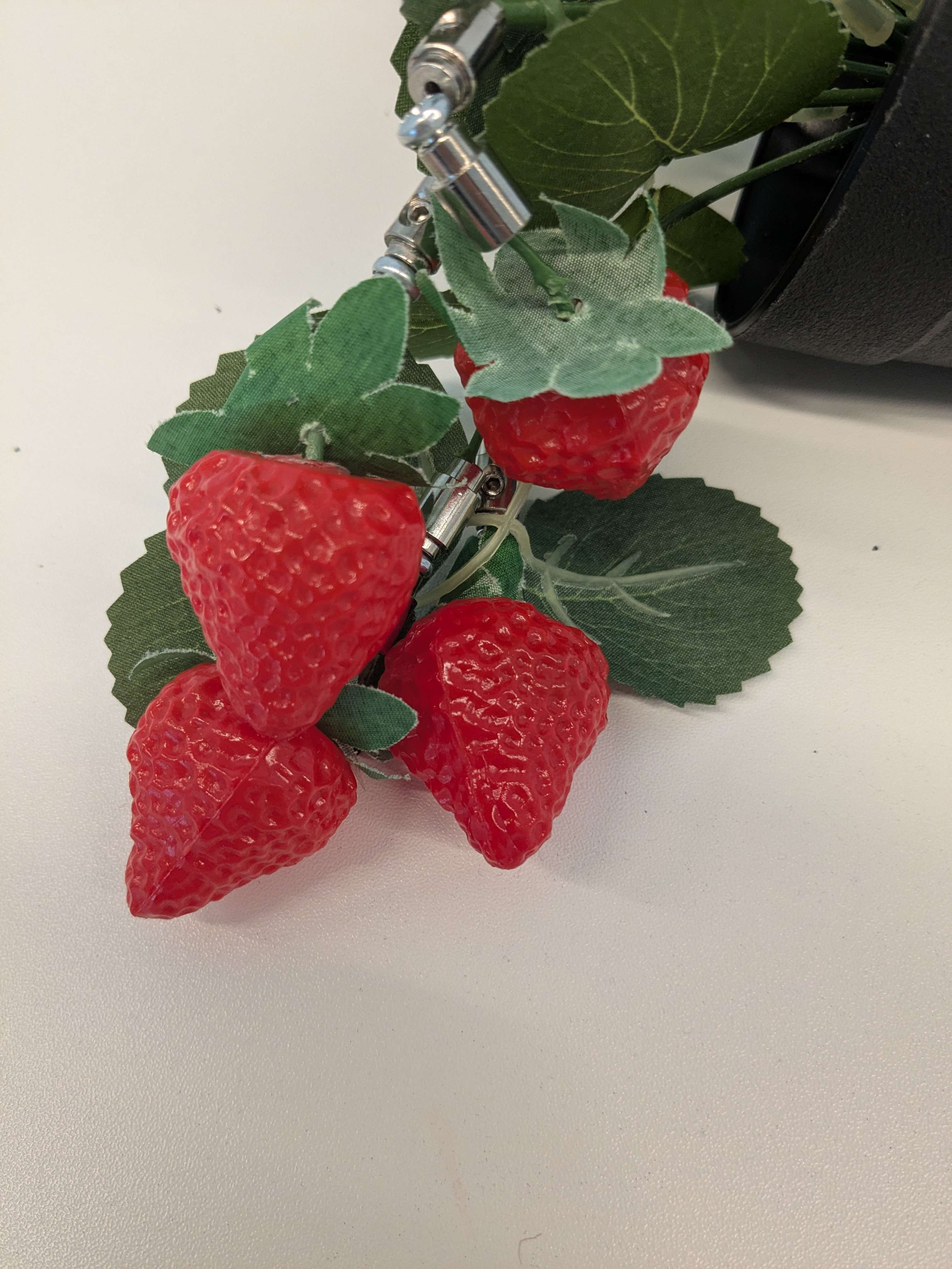Strawberry: (171, 437, 422, 755), (106, 666, 372, 949), (442, 228, 710, 494), (385, 594, 606, 887)
